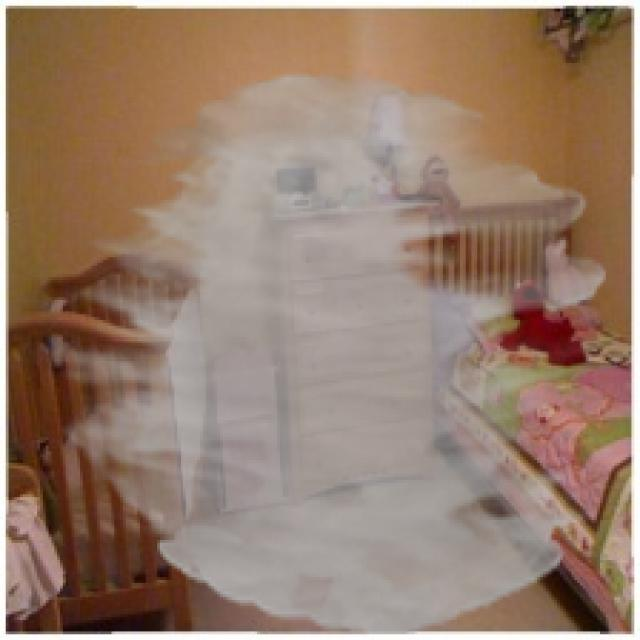smoke: (57, 71, 606, 634)
